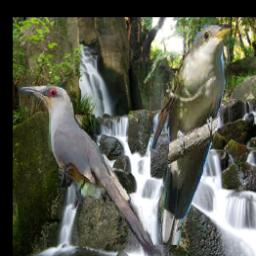Cuckoo: (19, 82, 164, 256), (149, 24, 232, 245)
